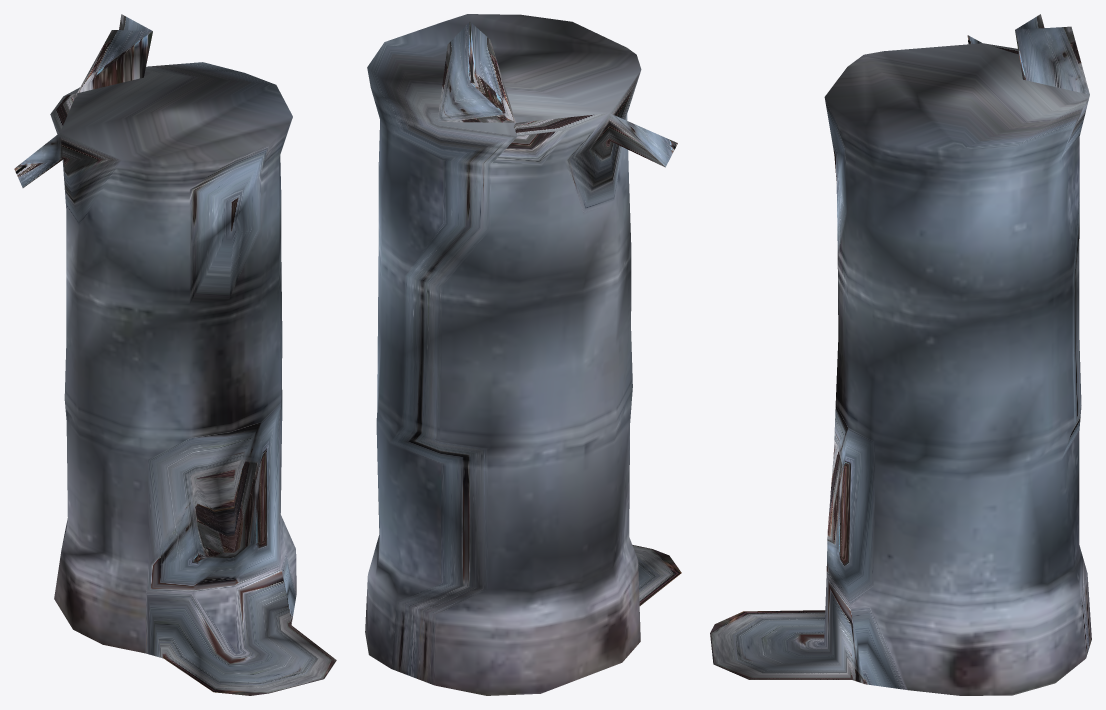
The model's file is scandinavian_masonry_heater_lod1.glb.
3 views of the same model, side by side, from view 1: azimuth 30°, elevation 25°; view 2: azimuth 150°, elevation 25°; view 3: azimuth 270°, elevation 25° (orthographic). The views are drawn at different scales.
Parts seen in each view (by area): view 1: scandinavian_masonry_heater; view 2: scandinavian_masonry_heater; view 3: scandinavian_masonry_heater.
Boxes of the visible parts, <box> form: scandinavian_masonry_heater: <box>14,14,336,695</box>; scandinavian_masonry_heater: <box>365,14,681,695</box>; scandinavian_masonry_heater: <box>710,14,1091,695</box>.
Bounding box in the file's own units: 1.16 × 2.36 × 1.33.
1 material, 1 textured.
